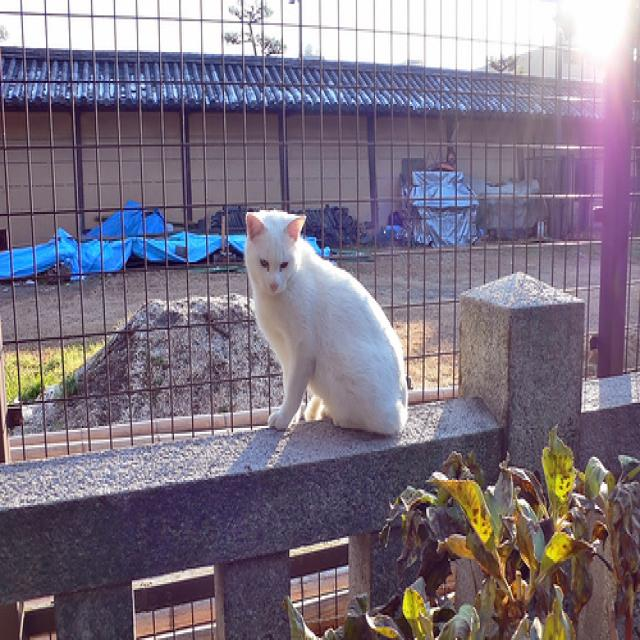left eye: (278, 256, 289, 272)
